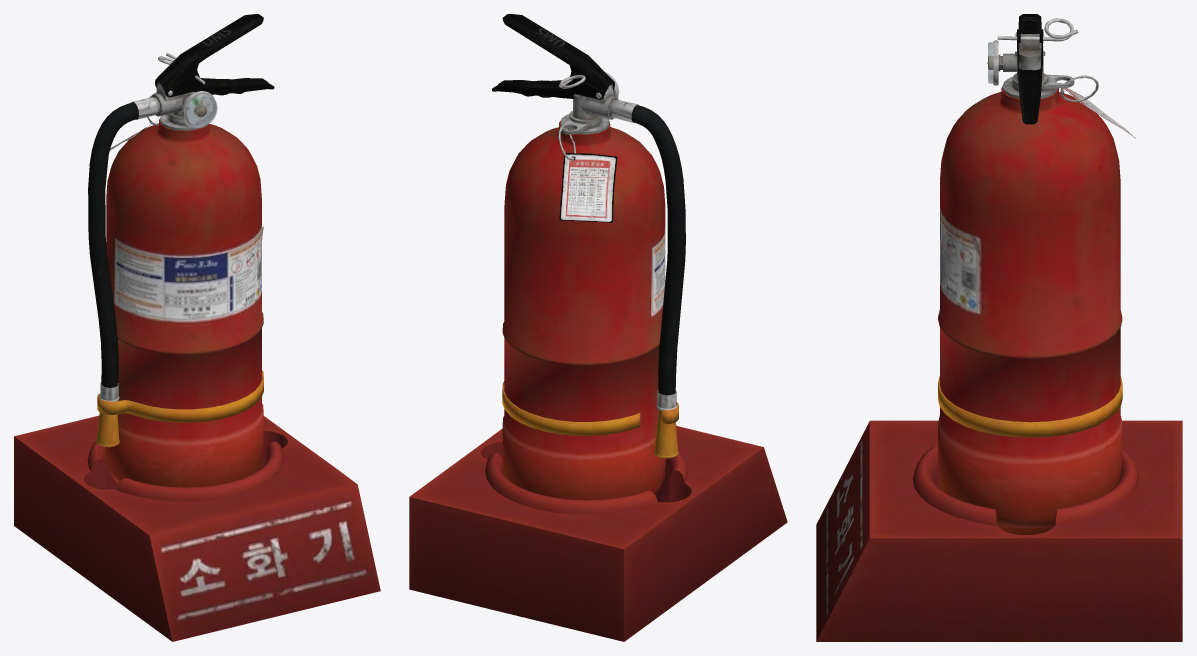
The model's file is extinguisher.glb.
3 renders of one model, left to right at view 1: azimuth 30°, elevation 25°; view 2: azimuth 150°, elevation 25°; view 3: azimuth 270°, elevation 25°, orthographic. The views are drawn at different scales.
Parts seen in each view (by area): view 1: korean_fire_extinguisher_01; view 2: korean_fire_extinguisher_01; view 3: korean_fire_extinguisher_01.
Part boxes in pixels (x1,y1,x2,y2): korean_fire_extinguisher_01: (14, 14, 380, 641); korean_fire_extinguisher_01: (409, 14, 787, 641); korean_fire_extinguisher_01: (816, 14, 1182, 641).
Bounding box in the file's own units: 0.2799 × 0.6591 × 0.3674.
Materials: 3 (3 with a texture image).
